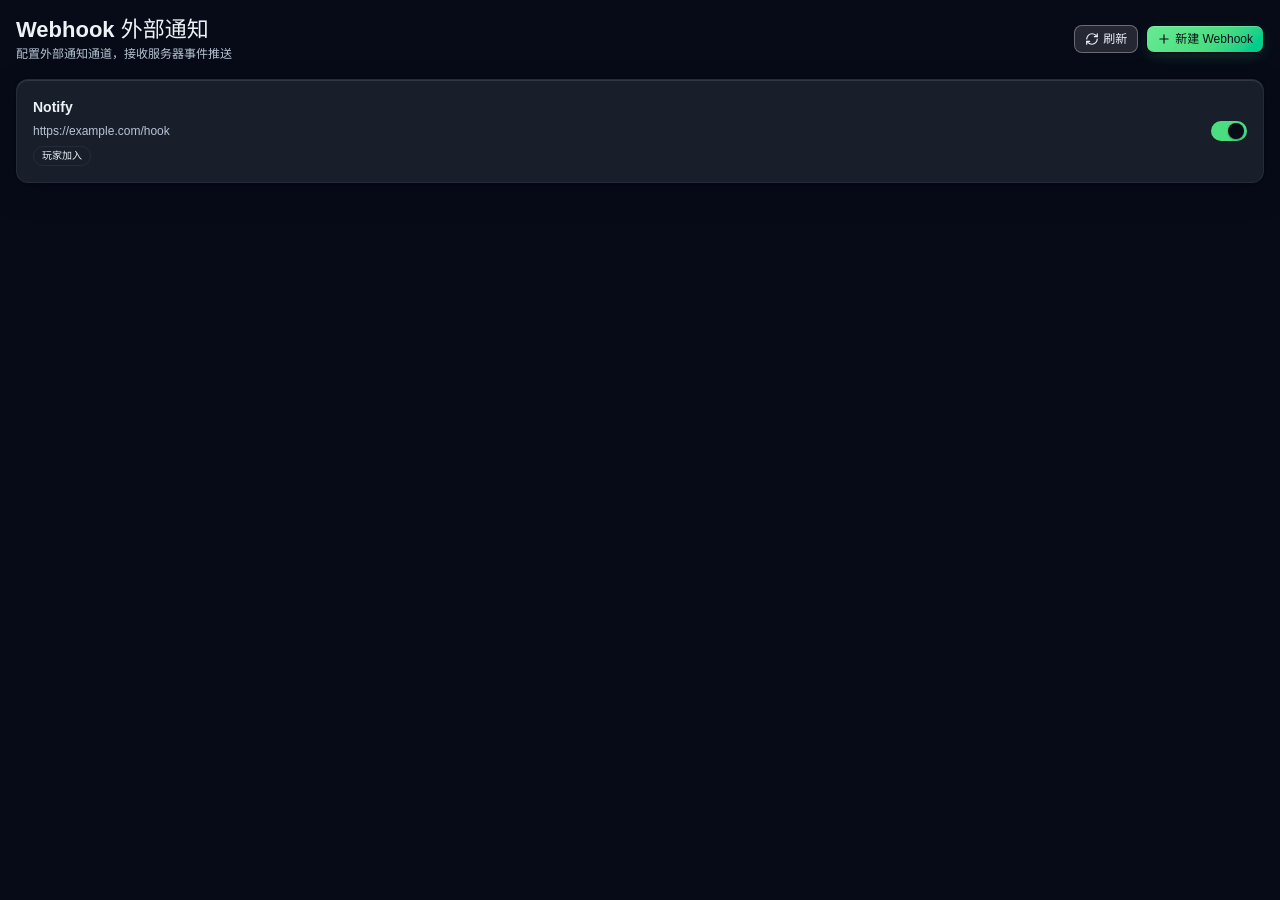
Test: 设置弹窗：投递日志（发送内容 + 响应内容） › 展开记录行：发送内容为 payload JSON，响应体超长截断；再点收起
Click the button with aria-label "设置 Notify": (53, 107) [33, 92, 1199, 170]
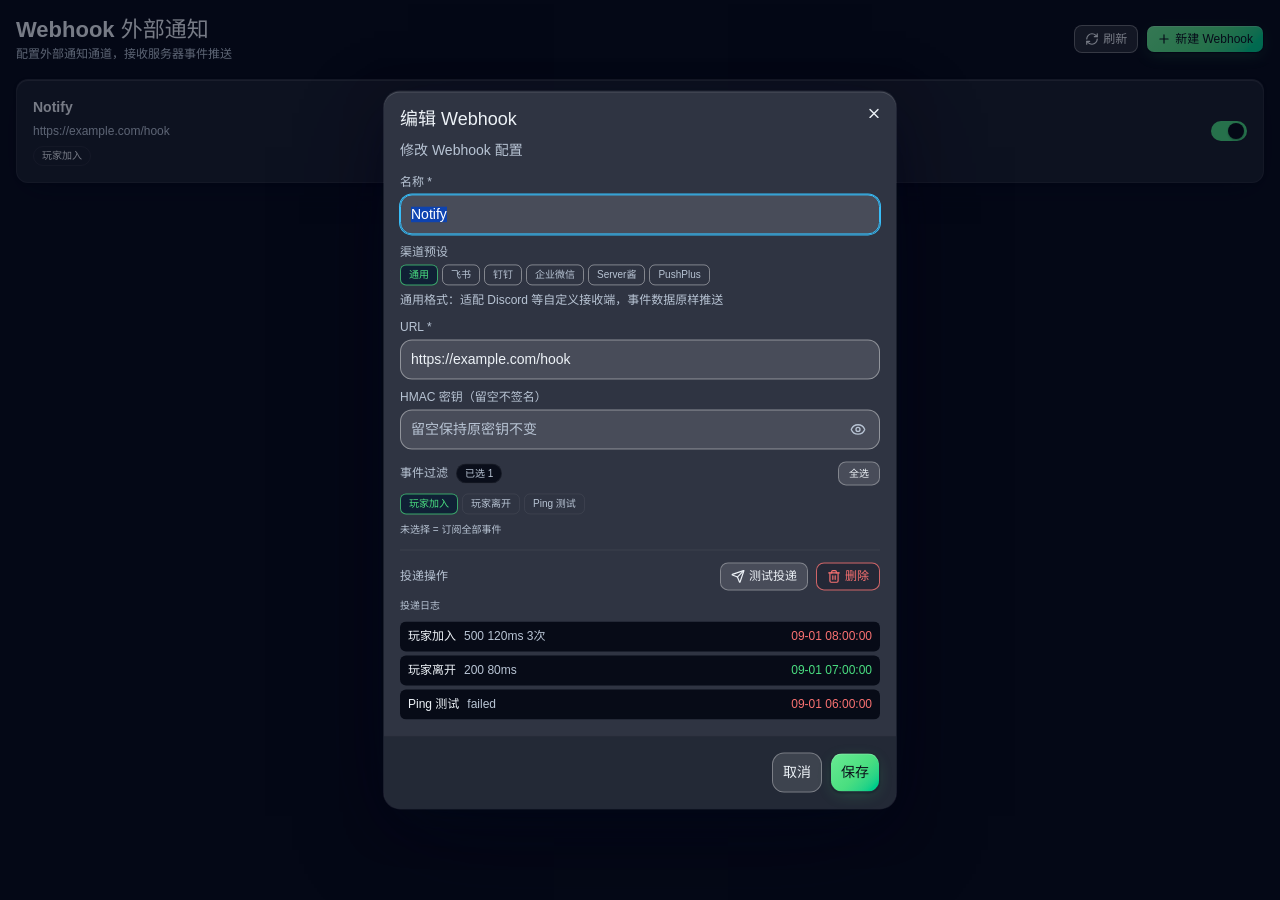
Click the button "玩家加入500 120ms 3次 09-01 08:00:00": (432, 637) [400, 622, 880, 652]
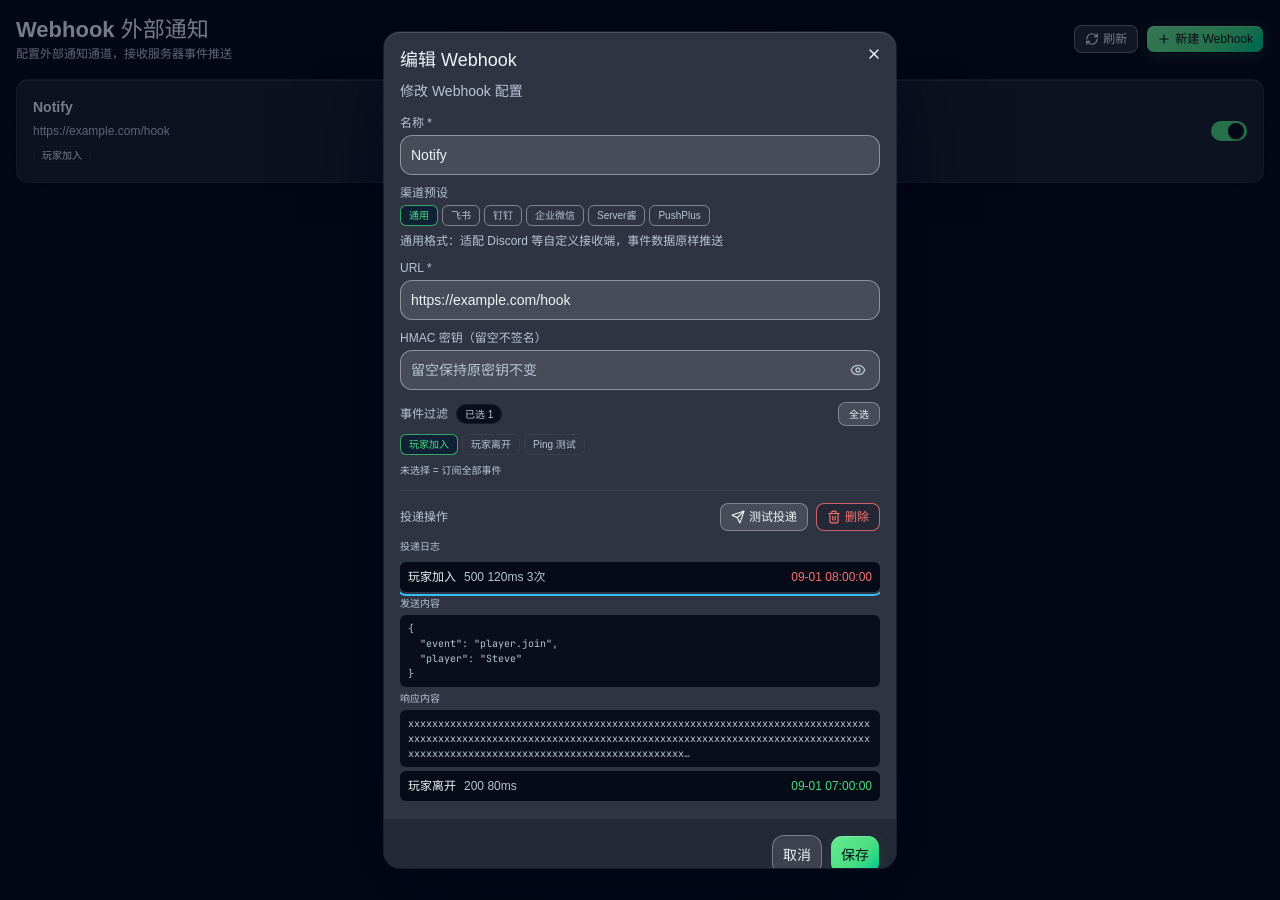
Check: the button "玩家加入500 120ms 3次 09-01 08:00:00" is expanded
Check: the text with test id "delivery-payload-11" shows "player.join", box [408, 622, 558, 680]
Check: the text with test id "delivery-payload-11" shows "Steve", box [408, 622, 558, 680]
Click the button "玩家加入500 120ms 3次 09-01 08:00:00": (432, 577) [400, 562, 880, 592]
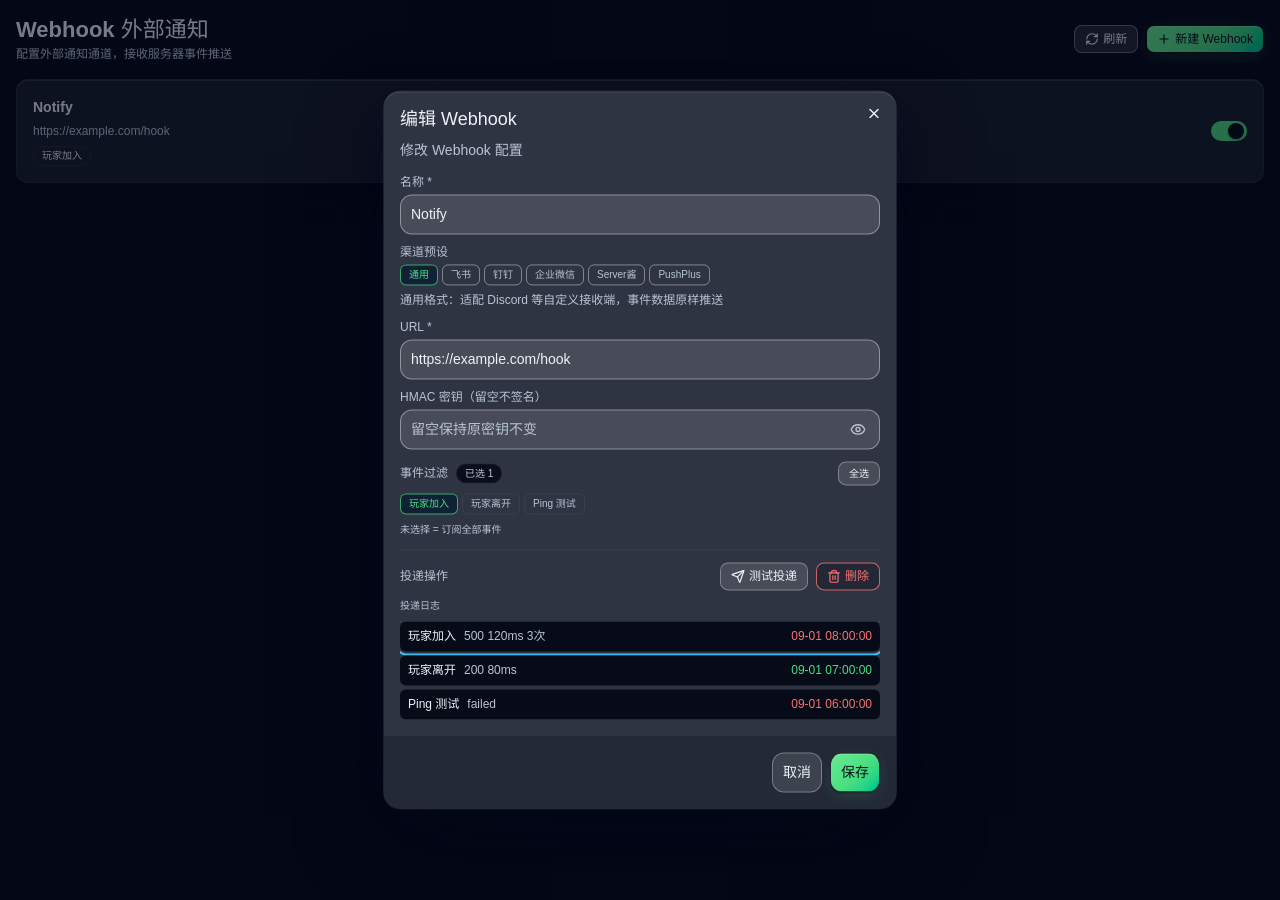
Check: the button "玩家加入500 120ms 3次 09-01 08:00:00" is collapsed, box [400, 622, 880, 652]
Check: the text with test id "delivery-response-11" is gone
